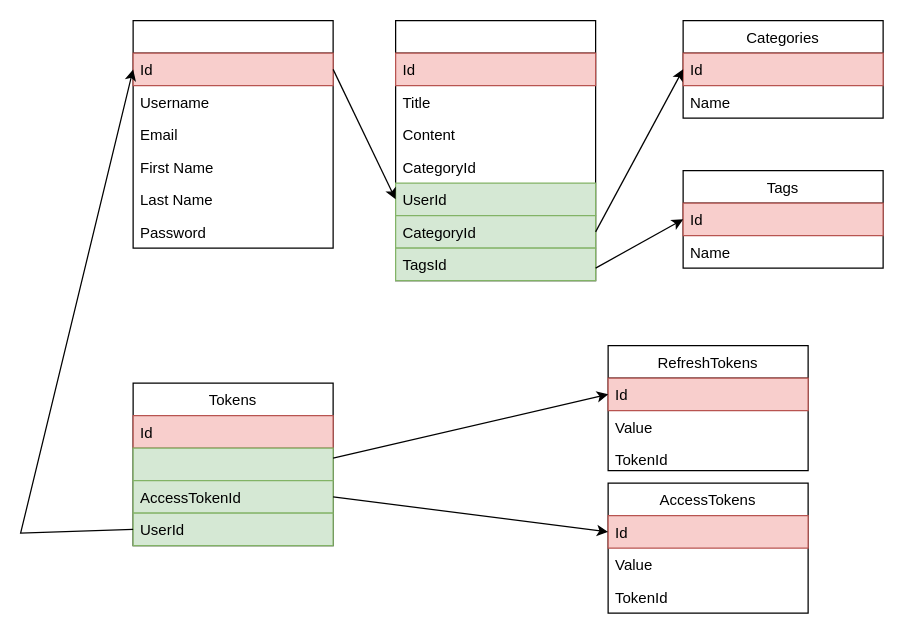
Image size: 904x634. Some labels were removed from this diagram. Here are the shapes that lost their labels. From the top down, the box of each, then its label:
(132, 19, 333, 248): Users
(394, 19, 596, 281): Notes
(132, 447, 333, 481): RefreshTokenId
